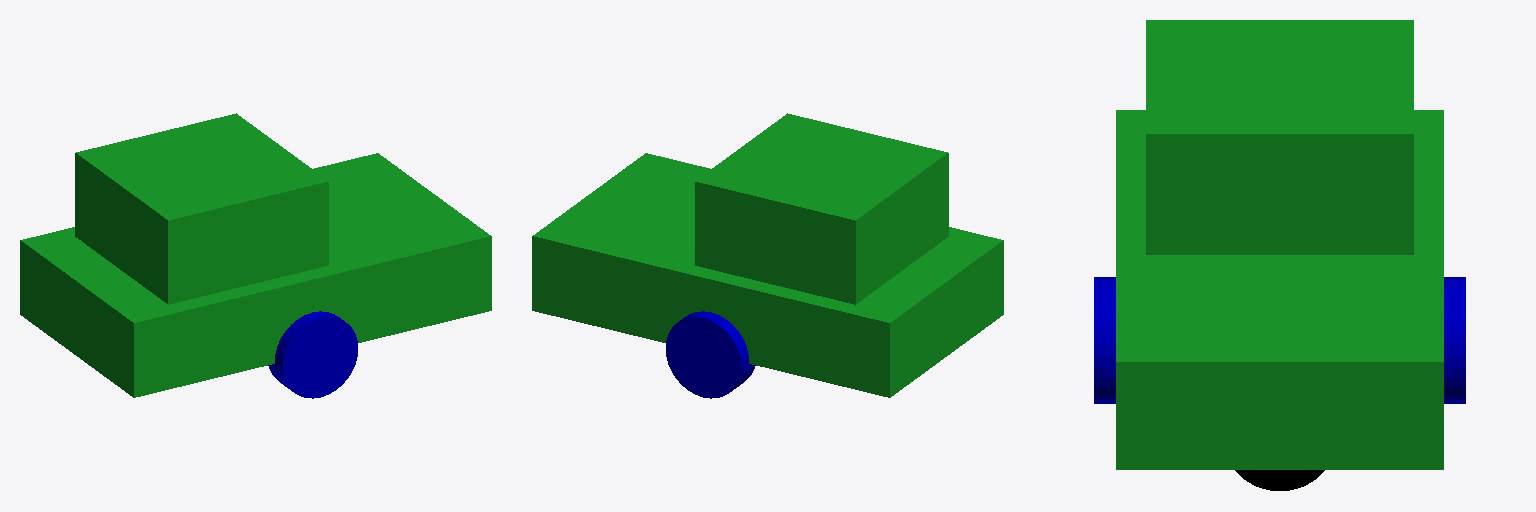
The robot description file, URDF, robot "gaja":
<?xml version="1.0"?>
<robot name="gaja">

  <material name="green">
    <color rgba="0.12 0.65 0.18 1.0"/>
  </material>
  <material name="blue">
    <color rgba="0.0 0.0 0.8 1.0"/>
  </material>
  <material name="black">
    <color rgba="0 0 0 1"/>
  </material>

  <!-- Layer 1: lower car body -->
  <link name="base_link">
    <visual>
      <origin xyz="0 0 0.08"/>
      <geometry>
        <box size="0.40 0.22 0.08"/>
      </geometry>
      <material name="green"/>
    </visual>
    <collision>
      <origin xyz="0 0 0.09"/>
      <geometry>
        <box size="0.35 0.22 0.10"/>
      </geometry>
    </collision>
    <inertial>
      <origin xyz="0 0 0.09"/>
      <mass value="3.0"/>
      <inertia ixx="0.03" iyy="0.03" izz="0.03" ixy="0.0" ixz="0.0" iyz="0.0"/>
    </inertial>
  </link>

  <!-- Layer 2: upper cabin -->
  <link name="cabin_link">
    <visual>
      <origin xyz="0 0 0"/>
      <geometry>
        <box size="0.18 0.18 0.09"/>
      </geometry>
      <material name="green"/>
    </visual>
    <inertial>
      <mass value="0.05"/>
      <inertia ixx="1e-4" iyy="1e-4" izz="1e-4" ixy="0" ixz="0" iyz="0"/>
    </inertial>
  </link>

  <joint name="cabin_joint" type="fixed">
    <parent link="base_link"/>
    <child link="cabin_link"/>
    <origin xyz="-0.06 0 0.165"/>
  </joint>

  <!-- Middle left drive wheel -->
  <link name="left_wheel">
    <visual>
      <origin rpy="1.5708 0 0" xyz="0 0 0"/>
      <geometry>
        <cylinder radius="0.0425" length="0.03"/>
      </geometry>
      <material name="blue"/>
    </visual>
    <collision>
      <origin rpy="1.5708 0 0" xyz="0 0 0"/>
      <geometry>
        <cylinder radius="0.0425" length="0.03"/>
      </geometry>
    </collision>
    <inertial>
      <origin xyz="0 0 0"/>
      <mass value="0.3"/>
      <inertia ixx="0.0005" iyy="0.0005" izz="0.0005" ixy="0.0" ixz="0.0" iyz="0.0"/>
    </inertial>
  </link>

  <joint name="left_wheel_joint" type="continuous">
    <parent link="base_link"/>
    <child link="left_wheel"/>
    <origin xyz="0 0.11 0.0425"/>
    <axis xyz="0 1 0"/>
  </joint>

  <!-- Middle right drive wheel -->
  <link name="right_wheel">
    <visual>
      <origin rpy="1.5708 0 0" xyz="0 0 0"/>
      <geometry>
        <cylinder radius="0.0425" length="0.03"/>
      </geometry>
      <material name="blue"/>
    </visual>
    <collision>
      <origin rpy="1.5708 0 0" xyz="0 0 0"/>
      <geometry>
        <cylinder radius="0.0425" length="0.03"/>
      </geometry>
    </collision>
    <inertial>
      <origin xyz="0 0 0"/>
      <mass value="0.3"/>
      <inertia ixx="0.0005" iyy="0.0005" izz="0.0005" ixy="0.0" ixz="0.0" iyz="0.0"/>
    </inertial>
  </link>

  <joint name="right_wheel_joint" type="continuous">
    <parent link="base_link"/>
    <child link="right_wheel"/>
    <origin xyz="0 -0.11 0.0425"/>
    <axis xyz="0 1 0"/>
  </joint>

  <!-- Front caster wheel -->
  <link name="front_caster_wheel">
    <visual>
      <origin xyz="0 0 0"/>
      <geometry>
        <sphere radius="0.04"/>
      </geometry>
      <material name="black"/>
    </visual>
    <collision>
      <origin xyz="0 0 0"/>
      <geometry>
        <sphere radius="0.04"/>
      </geometry>
    </collision>
    <inertial>
      <mass value="0.05"/>
      <inertia ixx="1e-4" iyy="1e-4" izz="1e-4" ixy="0" ixz="0" iyz="0"/>
    </inertial>
  </link>

  <joint name="front_caster_joint" type="fixed">
    <parent link="base_link"/>
    <child link="front_caster_wheel"/>
    <origin xyz="0.14 0 0.04"/>
  </joint>

  <!-- Back caster wheel -->
  <link name="back_caster_wheel">
    <visual>
      <origin xyz="0 0 0"/>
      <geometry>
        <sphere radius="0.04"/>
      </geometry>
      <material name="black"/>
    </visual>
    <collision>
      <origin xyz="0 0 0"/>
      <geometry>
        <sphere radius="0.04"/>
      </geometry>
    </collision>
    <inertial>
      <mass value="0.05"/>
      <inertia ixx="1e-4" iyy="1e-4" izz="1e-4" ixy="0" ixz="0" iyz="0"/>
    </inertial>
  </link>

  <joint name="back_caster_joint" type="fixed">
    <parent link="base_link"/>
    <child link="back_caster_wheel"/>
    <origin xyz="-0.14 0 0.04"/>
  </joint>

  <!-- Gazebo colours -->
  <gazebo reference="base_link">
    <material>Gazebo/Green</material>
  </gazebo>

  <gazebo reference="cabin_link">
    <material>Gazebo/Green</material>
  </gazebo>

  <gazebo reference="left_wheel">
    <mu1>1.0</mu1>
    <mu2>1.0</mu2>
    <material>Gazebo/Blue</material>
  </gazebo>

  <gazebo reference="right_wheel">
    <mu1>1.0</mu1>
    <mu2>1.0</mu2>
    <material>Gazebo/Blue</material>
  </gazebo>

  <gazebo reference="front_caster_wheel">
    <mu1>0.001</mu1>
    <mu2>0.001</mu2>
    <material>Gazebo/Black</material>
  </gazebo>

  <gazebo reference="back_caster_wheel">
    <mu1>0.001</mu1>
    <mu2>0.001</mu2>
    <material>Gazebo/Black</material>
  </gazebo>

  <!-- Differential drive plugin -->
  <gazebo>
    <plugin name="gaja_diff_drive" filename="libgazebo_ros_diff_drive.so">
      <ros>
        <namespace>/</namespace>
        <remapping>cmd_vel:=/cmd_vel</remapping>
        <remapping>odom:=/odom</remapping>
      </ros>
      <left_joint>left_wheel_joint</left_joint>
      <right_joint>right_wheel_joint</right_joint>
      <wheel_separation>0.22</wheel_separation>
      <wheel_diameter>0.085</wheel_diameter>
      <max_wheel_torque>5.0</max_wheel_torque>
      <max_wheel_acceleration>10.0</max_wheel_acceleration>
      <odometry_frame>odom</odometry_frame>
      <robot_base_frame>base_link</robot_base_frame>
      <publish_odom>true</publish_odom>
      <publish_wheel_tf>true</publish_wheel_tf>
      <publish_odom_tf>true</publish_odom_tf>
      <update_rate>50</update_rate>
    </plugin>
  </gazebo>

</robot>

--- Render facts (derived) ---
3 views of the same robot in one strip: view 1: azimuth 30°, elevation 25°; view 2: azimuth 150°, elevation 25°; view 3: azimuth 270°, elevation 25° (orthographic).
Robot: gaja — 6 links, 5 joints (2 continuous, 3 fixed); root link base_link; default pose: all joints at 0.
Visible links, largest first — view 1: base_link, cabin_link, right_wheel; view 2: base_link, cabin_link, left_wheel; view 3: base_link, cabin_link, left_wheel, right_wheel, front_caster_wheel.
Link boxes in pixels (bbox=[...]): base_link: bbox=[20, 153, 491, 397]; cabin_link: bbox=[75, 113, 328, 304]; right_wheel: bbox=[268, 311, 357, 398]; base_link: bbox=[532, 153, 1003, 397]; cabin_link: bbox=[695, 113, 948, 304]; left_wheel: bbox=[666, 311, 755, 398]; base_link: bbox=[1116, 110, 1443, 469]; cabin_link: bbox=[1146, 20, 1413, 254]; left_wheel: bbox=[1444, 277, 1465, 403]; right_wheel: bbox=[1094, 277, 1115, 403]; front_caster_wheel: bbox=[1235, 470, 1324, 490].
Size in the robot's own frame: 0.4 by 0.25 by 0.21 metres.
Geometry: primitives only (box / cylinder / sphere), no mesh files.
